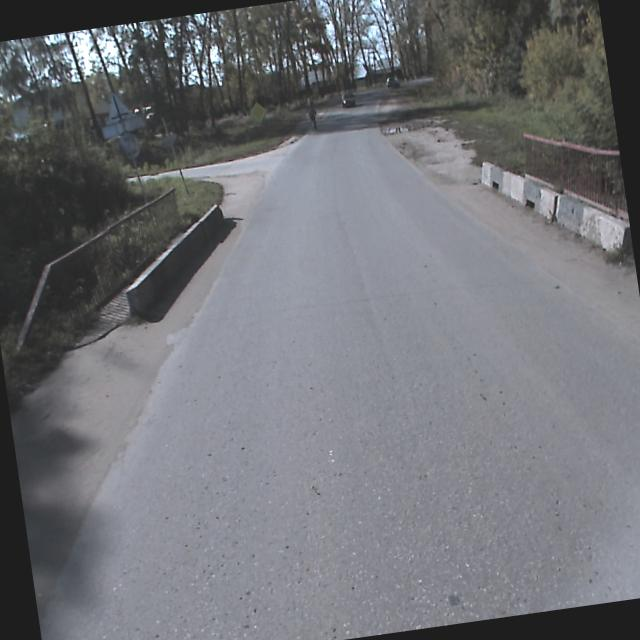road: (39, 91, 640, 640)
